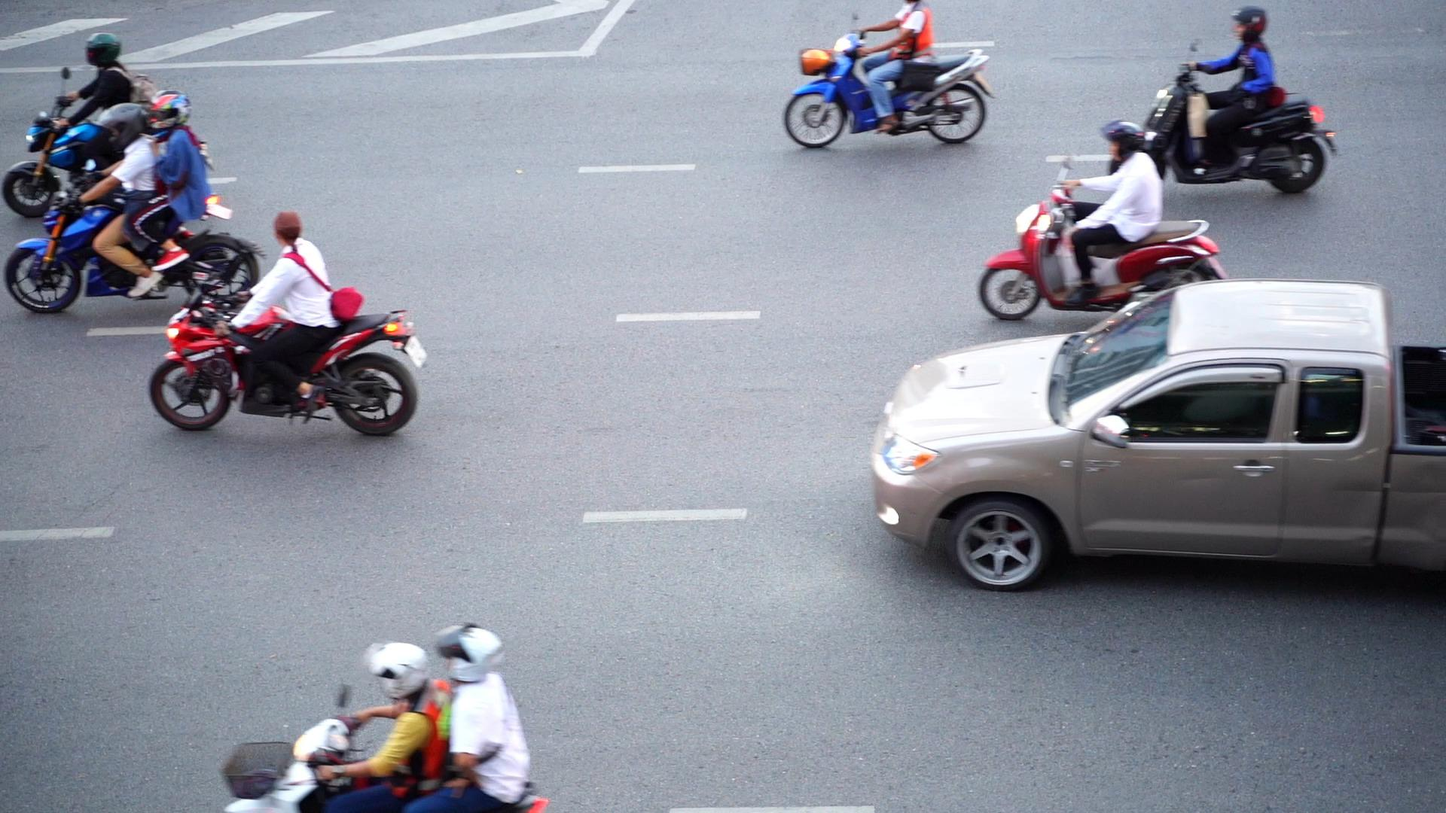driver: (220, 622, 551, 813), (148, 210, 427, 435), (4, 89, 268, 313), (978, 118, 1231, 321), (1107, 5, 1336, 194), (784, 0, 996, 149), (4, 31, 158, 218)
helmet: (433, 621, 505, 684), (360, 642, 430, 701), (97, 102, 148, 151), (1099, 119, 1146, 163), (150, 89, 192, 130), (1230, 5, 1266, 41), (85, 32, 121, 66)
no-helmet: (273, 210, 301, 246)
